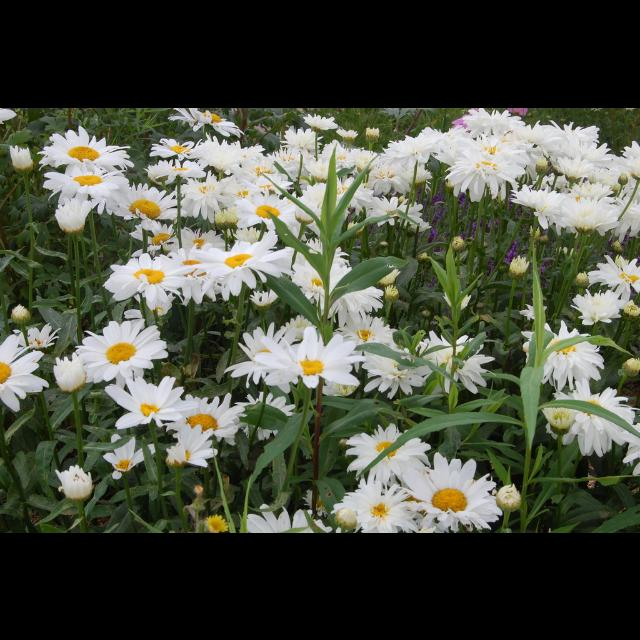Flower: (148, 108, 640, 346), (554, 376, 640, 460), (253, 325, 363, 385), (520, 316, 608, 390), (102, 251, 198, 315), (344, 424, 431, 486), (198, 240, 288, 296), (422, 462, 500, 526), (332, 476, 418, 532), (416, 330, 496, 390), (30, 124, 128, 172), (358, 336, 434, 396), (228, 322, 298, 386), (1, 333, 52, 413), (42, 158, 128, 205), (165, 242, 218, 304), (248, 500, 334, 532), (108, 183, 182, 219), (162, 419, 218, 465), (169, 107, 241, 141), (104, 433, 156, 479), (55, 464, 93, 502), (132, 222, 180, 252), (542, 394, 580, 428), (14, 322, 60, 346), (56, 200, 92, 230), (280, 311, 316, 341), (302, 489, 342, 516), (622, 418, 640, 474), (174, 227, 226, 246), (7, 142, 39, 166), (6, 302, 34, 328), (520, 299, 548, 321), (246, 288, 278, 302), (204, 516, 226, 532), (618, 356, 640, 372), (0, 107, 16, 127)
